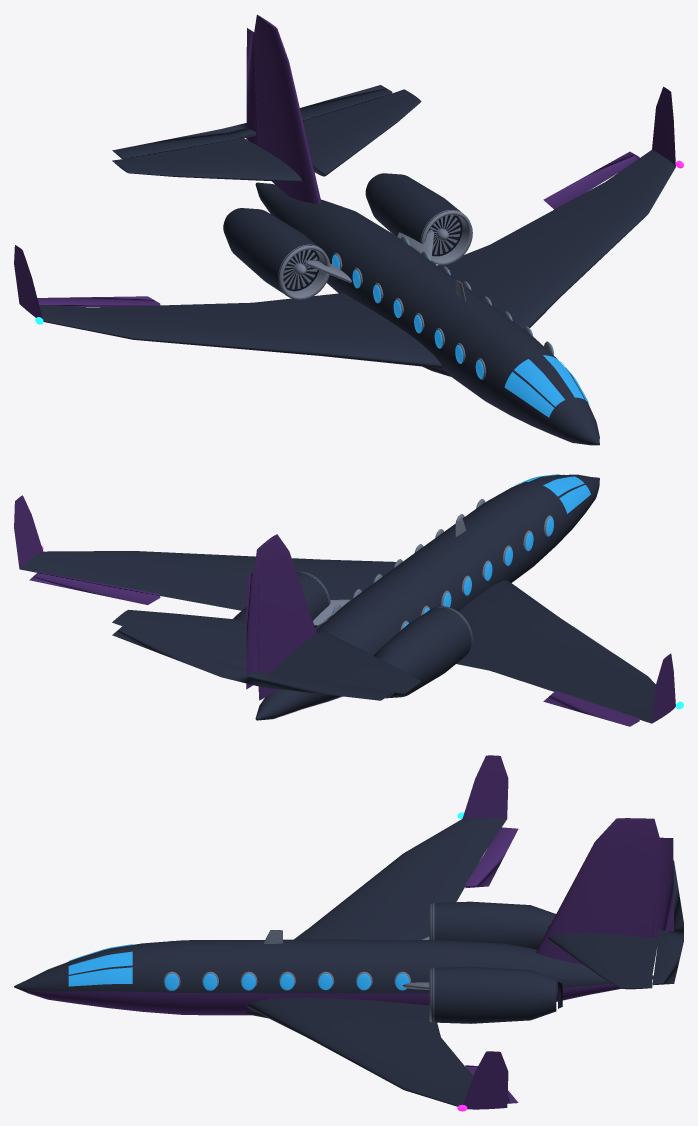
File: cyberwing.glb
The picture shows the model from 3 angles, top to bottom: view 1: azimuth 30°, elevation 25°; view 2: azimuth 150°, elevation 25°; view 3: azimuth 270°, elevation 25°; orthographic projection. The views are drawn at different scales.
Visible parts, largest first — view 1: aerion, Elevator, AileronL, AileronR, Rudder; view 2: aerion, Elevator, AileronL, AileronR, Rudder; view 3: aerion, Elevator, Rudder, AileronR.
Boxes of the visible parts, bbox=[...] form: aerion: bbox=[14, 14, 683, 445]; Elevator: bbox=[112, 85, 392, 158]; AileronL: bbox=[543, 151, 639, 209]; AileronR: bbox=[37, 296, 160, 306]; Rudder: bbox=[246, 28, 258, 145]; aerion: bbox=[14, 474, 683, 723]; Elevator: bbox=[112, 625, 392, 700]; AileronL: bbox=[29, 572, 160, 604]; AileronR: bbox=[543, 690, 639, 726]; Rudder: bbox=[246, 570, 260, 689]; aerion: bbox=[14, 755, 660, 1111]; Elevator: bbox=[652, 861, 683, 985]; Rudder: bbox=[652, 837, 673, 938]; AileronR: bbox=[465, 827, 518, 888].
Size of the model in its own units: 16.4 by 5.03 by 15.69.
